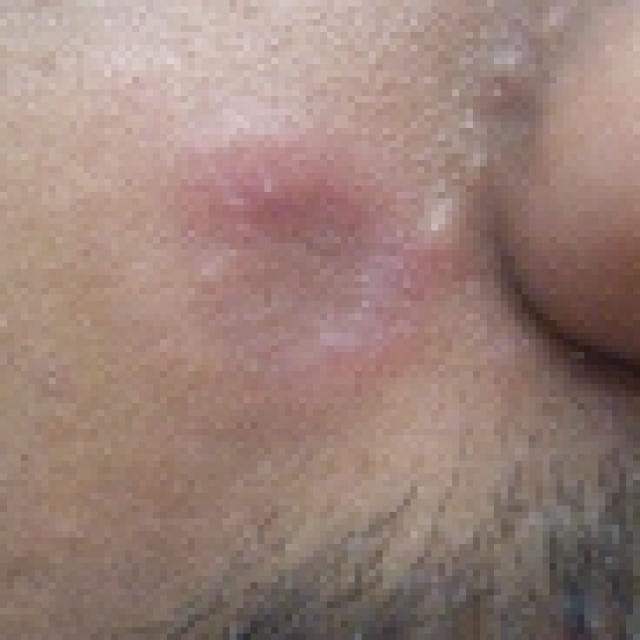lupus: (166, 118, 467, 362)
